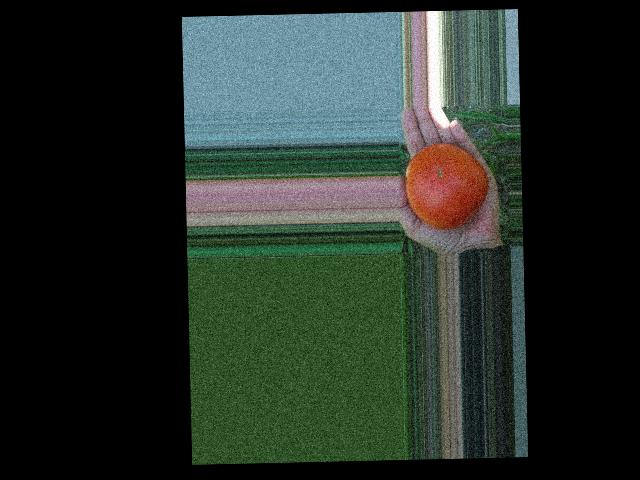tomato: (404, 142, 490, 229)
